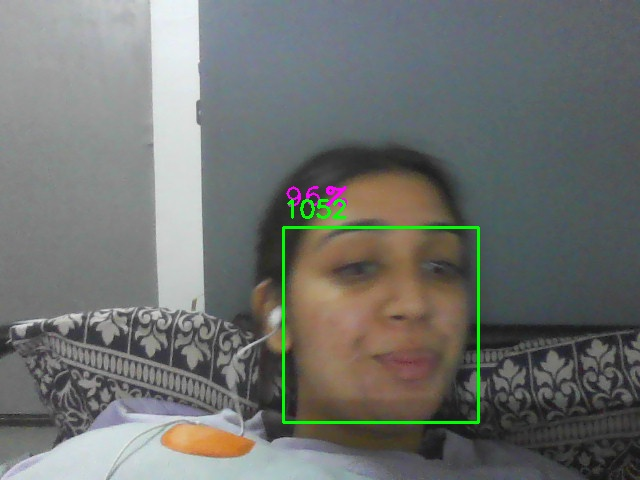real: (283, 227, 479, 423)
